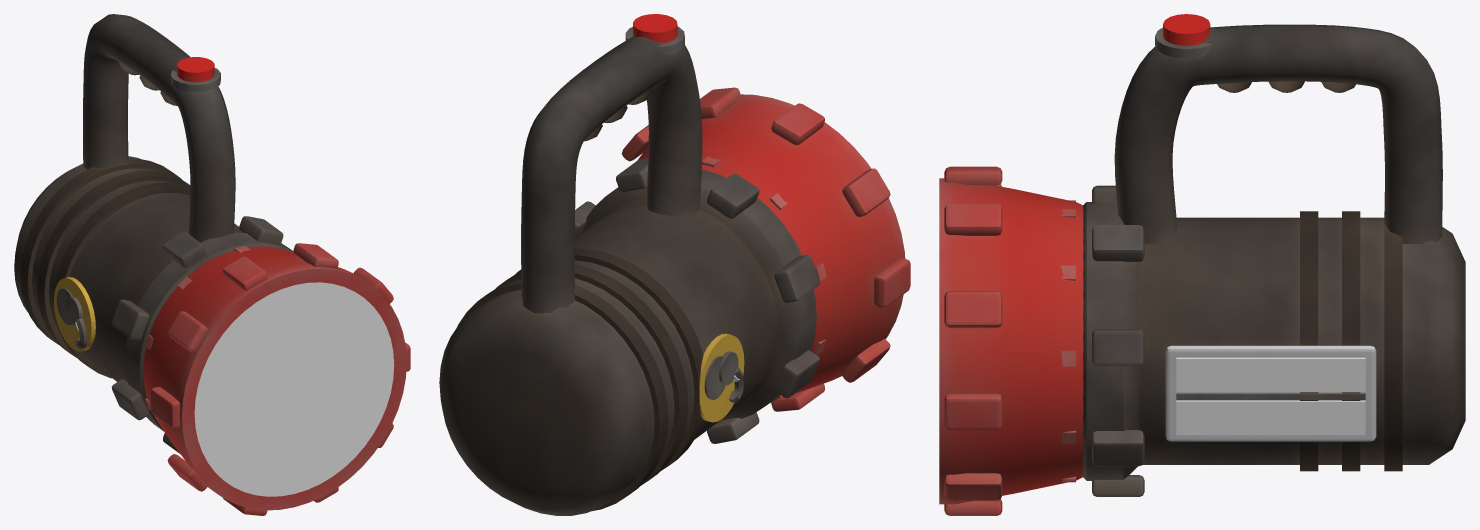
The model's file is ElephantFlashlight.fbx.
The picture shows the model from 3 angles, left to right: view 1: azimuth 30°, elevation 25°; view 2: azimuth 150°, elevation 25°; view 3: azimuth 270°, elevation 25°; orthographic projection. The views are drawn at different scales.
Parts seen in each view (by area): view 1: ElephantFlashlight, ElephantLens; view 2: ElephantFlashlight; view 3: ElephantFlashlight, ElephantSidePanel.
Boxes of the visible parts, left/top/right/bottom form: ElephantFlashlight: left=14, top=14, right=410, bottom=515; ElephantLens: left=194, top=282, right=394, bottom=496; ElephantFlashlight: left=439, top=14, right=910, bottom=515; ElephantFlashlight: left=939, top=14, right=1465, bottom=515; ElephantSidePanel: left=1176, top=357, right=1365, bottom=435.
Bounding box in the file's own units: 18.54 × 27.65 × 28.
Materials: 3 (1 with a texture image).
